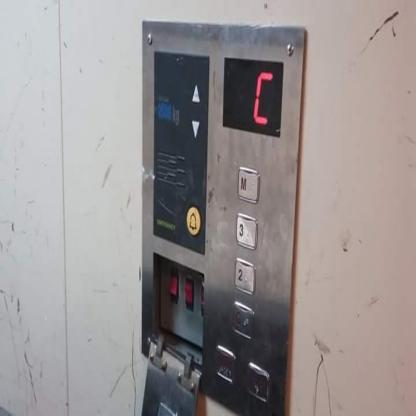2: (233, 257, 258, 297)
3: (235, 213, 259, 251)
G: (231, 299, 256, 341)
M: (236, 162, 262, 205)
alarm: (185, 202, 202, 237)
blur: (244, 360, 270, 404), (214, 343, 236, 386)
led: (220, 54, 284, 138)
switch: (167, 263, 180, 306), (183, 270, 195, 313)
